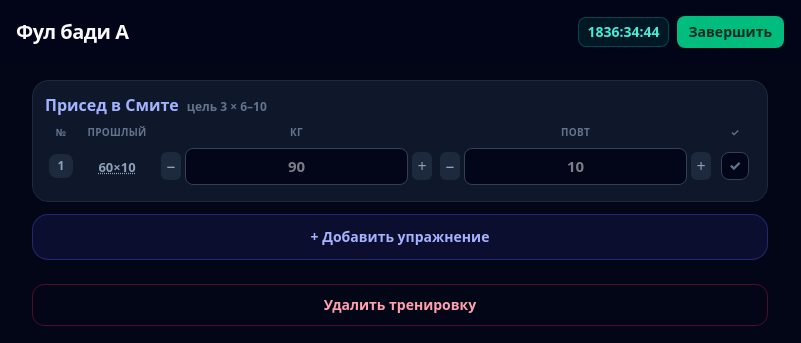
Scenario: WorkoutLogger › автоподстановка из «Прошлый» заполняет поля
This screenshot has width=801, height=343.
Expected: the text "Присед в Смите" is shown, [45, 94, 179, 116]
Click the button "60×10": (117, 168) [98, 158, 136, 178]
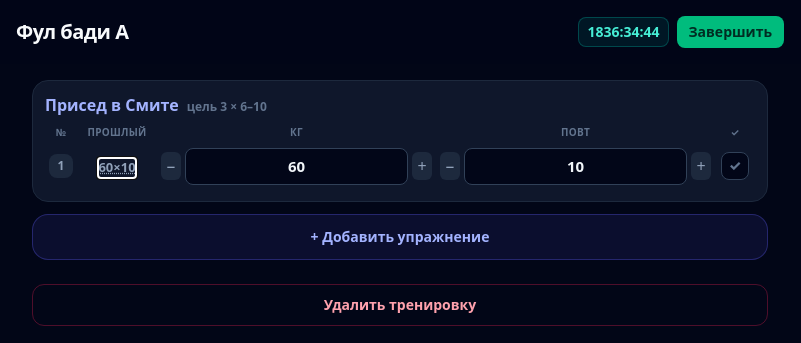
Expected: the field named "вес" holds "60", [185, 148, 408, 184]
Expected: the field named "повторы" holds "10", [464, 148, 687, 184]
